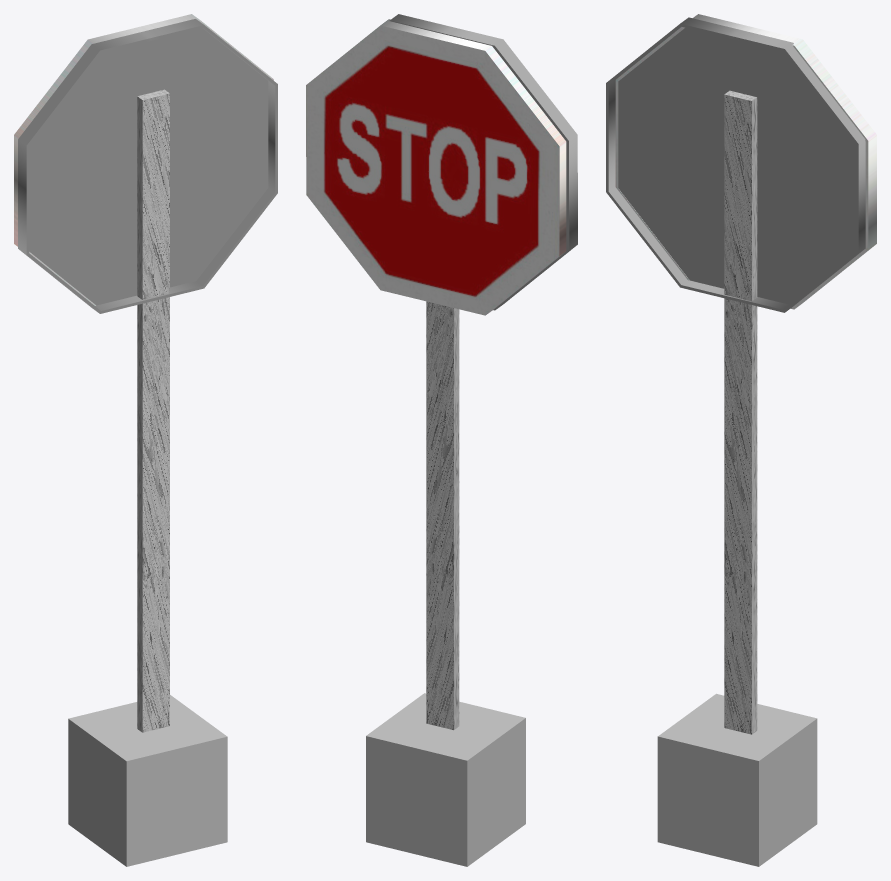
Rendered from STOP.obj.
3 renders of one model, left to right at view 1: azimuth 30°, elevation 25°; view 2: azimuth 150°, elevation 25°; view 3: azimuth 330°, elevation 25°, orthographic.
Visible parts, largest first — view 1: STOP_0.001, Cube, STOPALLM_1, STOP_0; view 2: STOP_0, Cube, STOPALLM_1, STOP_0.001; view 3: STOP_0.001, Cube, STOPALLM_1, STOP_0.
Boxes of the visible parts, box(x1,y1,x2,y2) form: STOP_0.001: box(18, 19, 277, 313); Cube: box(68, 695, 227, 866); STOPALLM_1: box(137, 89, 169, 732); STOP_0: box(14, 14, 273, 305); STOP_0: box(306, 19, 566, 315); Cube: box(366, 693, 525, 866); STOPALLM_1: box(426, 301, 459, 730); STOP_0.001: box(389, 14, 577, 310); STOP_0.001: box(606, 17, 865, 312); Cube: box(657, 693, 817, 866); STOPALLM_1: box(724, 90, 757, 734); STOP_0: box(615, 14, 876, 309).
Size of the model in its own units: 5.04 by 15.12 by 2.
Materials: 4 (3 with a texture image).
